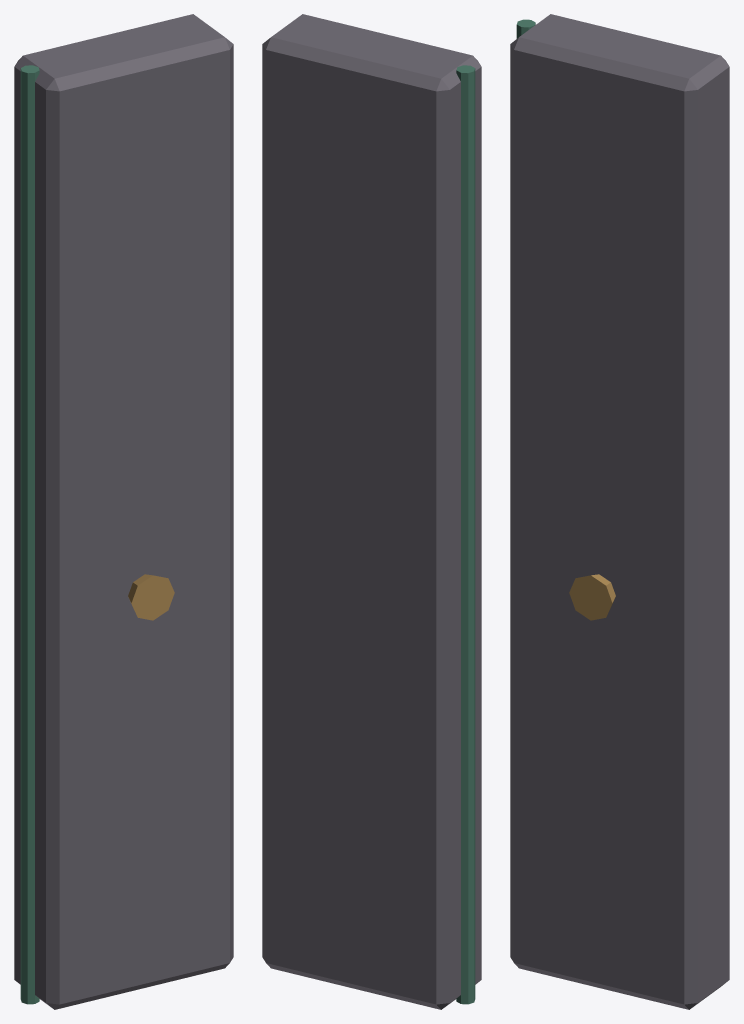
File: Bld_Lab_FoldWall_4m_Panel3.glb
3 views of the same model, side by side, from view 1: azimuth 30°, elevation 25°; view 2: azimuth 150°, elevation 25°; view 3: azimuth 330°, elevation 25° (orthographic).
Visible parts, largest first — view 1: Bld_Lab_FoldWall_4m_Panel3; view 2: Bld_Lab_FoldWall_4m_Panel3; view 3: Bld_Lab_FoldWall_4m_Panel3.
Boxes of the visible parts, bbox=[...] form: Bld_Lab_FoldWall_4m_Panel3: bbox=[14, 14, 233, 1009]; Bld_Lab_FoldWall_4m_Panel3: bbox=[262, 14, 481, 1009]; Bld_Lab_FoldWall_4m_Panel3: bbox=[510, 14, 729, 1009].
Size of what is drawn, in the model's own units: 0.815 by 3.7 by 0.36.
